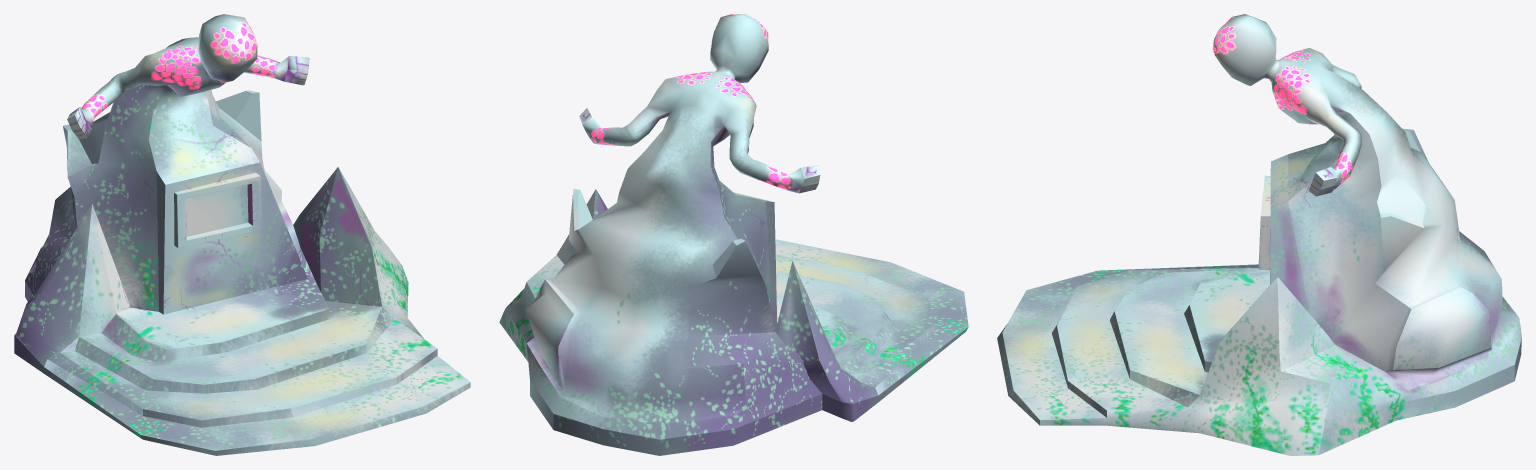
The model's file is StatueAngry_Textured.fbx.
3 renders of one model, left to right at view 1: azimuth 30°, elevation 25°; view 2: azimuth 150°, elevation 25°; view 3: azimuth 270°, elevation 25°, orthographic. The views are drawn at different scales.
Parts seen in each view (by area): view 1: StatueAngryLow.001; view 2: StatueAngryLow.001; view 3: StatueAngryLow.001.
Part boxes in pixels (bbox=[...]): StatueAngryLow.001: bbox=[14, 14, 470, 455]; StatueAngryLow.001: bbox=[499, 14, 968, 455]; StatueAngryLow.001: bbox=[997, 14, 1521, 455].
Bounding box in the file's own units: 485 × 418 × 588.
